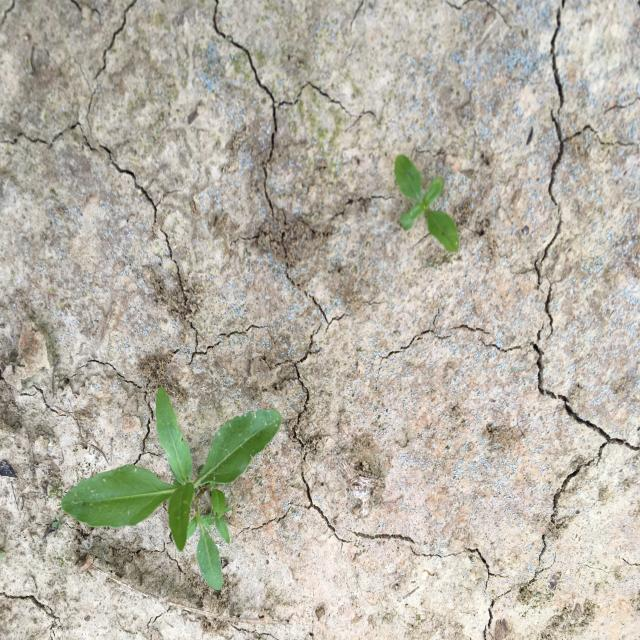Eclipta: (60, 385, 282, 591), (393, 153, 460, 254)
